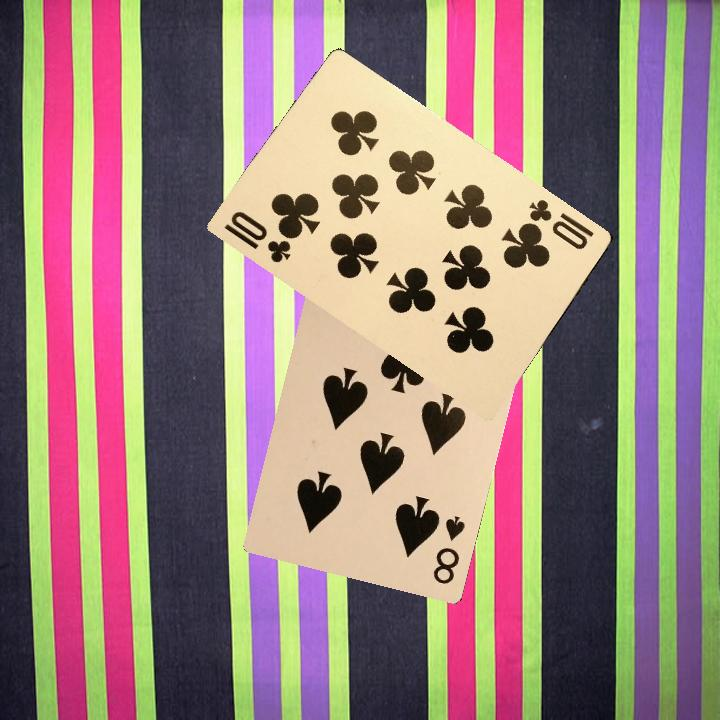10c: (220, 206, 294, 266), (522, 194, 596, 253)
8s: (429, 512, 468, 587)
